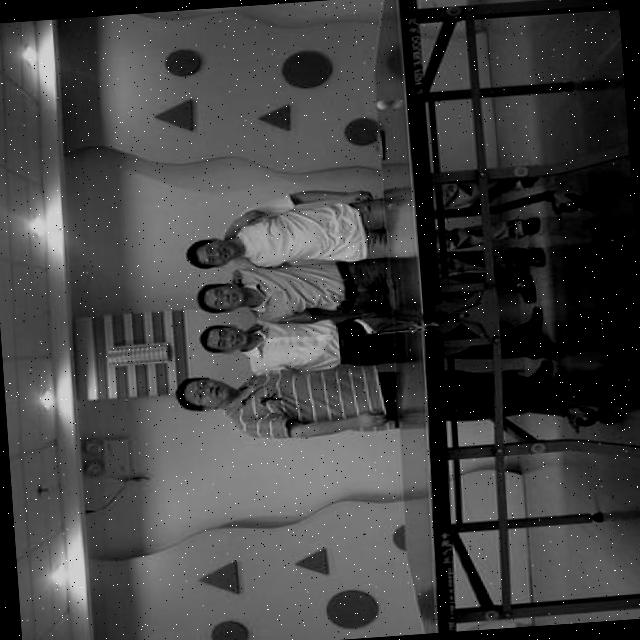ping-pong-ball: (374, 97, 391, 110)
